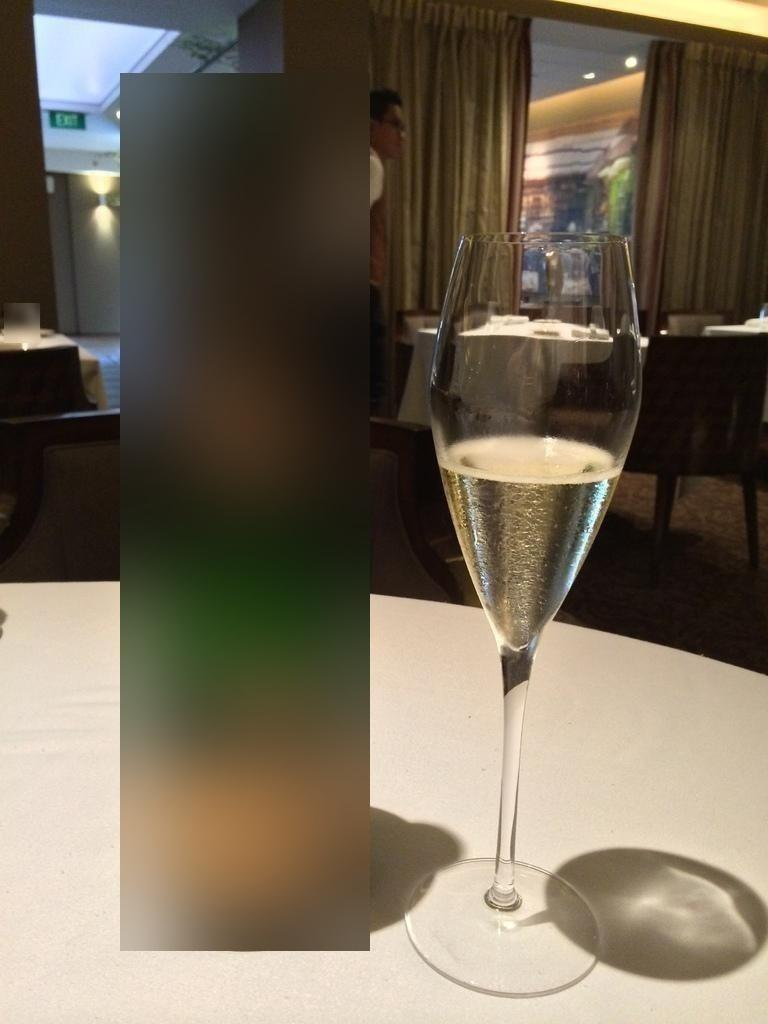glass-wine: (400, 226, 643, 996)
